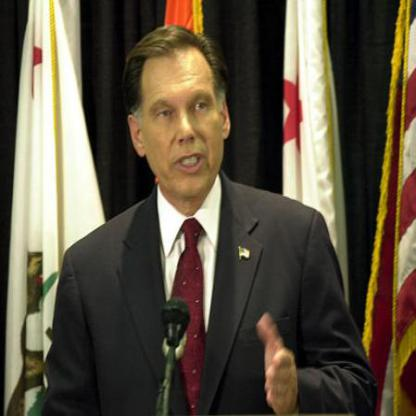face: (139, 28, 225, 202)
